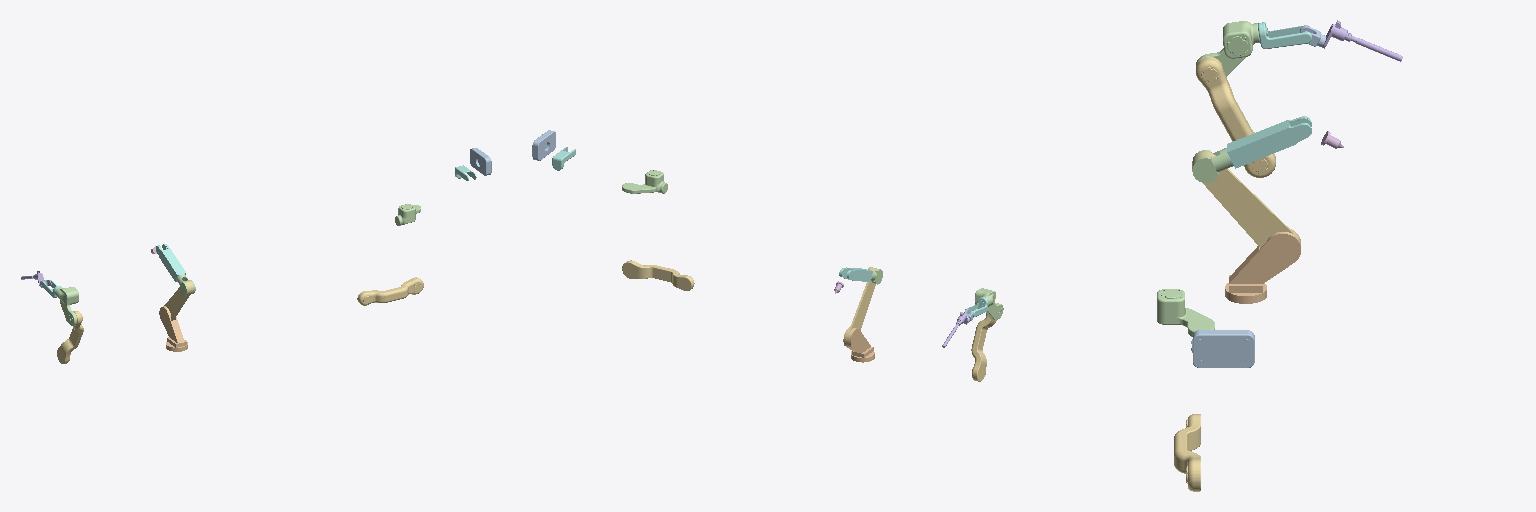
--- Facts derived from the render (not from the file) ---
Views: 3 orthographic renders of the robot side by side, from view 1: azimuth 30°, elevation 25°; view 2: azimuth 150°, elevation 25°; view 3: azimuth 270°, elevation 25°.
Model multirobot with 25 links and 24 joints (16 revolute, 8 fixed), rooted at world, posed all joints at 0.
Visible links, largest first — view 1: sero_3_link_2, sero_2_link_1, sero_1_link_2, sero_1_link_3; view 2: sero_3_link_2, sero_1_link_2, sero_3_link_3, sero_2_link_1, sero_2_link_2, sero_3_endeffector_base; view 3: sero_2_link_1, sero_2_link_2, sero_1_link_2, sero_3_endeffector_base, sero_2_link_4, sero_3_link_2, sero_1_link_3, sero_3_link_3, sero_1_link_4, sero_2_link_3, sero_1_endeffector.
Boxes of the visible links, <box> form: sero_3_link_2: <box>357,277,423,305</box>; sero_2_link_1: <box>159,306,187,351</box>; sero_1_link_2: <box>57,311,83,363</box>; sero_1_link_3: <box>55,287,78,325</box>; sero_3_link_2: <box>622,260,694,290</box>; sero_1_link_2: <box>971,303,996,381</box>; sero_3_link_3: <box>622,170,667,193</box>; sero_2_link_1: <box>843,327,874,362</box>; sero_2_link_2: <box>845,268,876,347</box>; sero_3_endeffector_base: <box>532,130,555,160</box>; sero_2_link_1: <box>1225,229,1300,303</box>; sero_2_link_2: <box>1192,152,1300,247</box>; sero_1_link_2: <box>1196,57,1275,177</box>; sero_3_endeffector_base: <box>1193,330,1254,367</box>; sero_2_link_4: <box>1226,116,1311,168</box>; sero_3_link_2: <box>1174,414,1200,491</box>; sero_1_link_3: <box>1196,21,1259,76</box>; sero_3_link_3: <box>1157,289,1214,336</box>; sero_1_link_4: <box>1258,22,1311,48</box>; sero_2_link_3: <box>1192,148,1232,182</box>; sero_1_endeffector: <box>1322,20,1402,61</box>.
Size in the robot's own frame: 3.73 by 0.989 by 1.07 metres.
14 mesh visuals loaded from 21 distinct referenced files (11 binary STL); not drawn: 10 (reference not matched to a file when rendering).

URDF robot description (multirobot):
<robot name="multirobot">
    <link name="world" />
    <!-- Robot description for the SERO-1 robot -->
    <link name="sero_1_base">
        <visual>
            <origin xyz="1.8041124150158793782e-16 0.05566523198650896731 0" rpy="0 -0 0" />
            <geometry>
                <mesh filename="package://multirobot/meshes_sero_1/base.stl" />
            </geometry>
            <material name="base_material">
                <color rgba="0.89019607843137249503 0.69803921568627447236 0.63921568627450975342 1.0" />
            </material>
        </visual>
        <collision>
            <origin xyz="1.8041124150158793782e-16 0.05566523198650896731 0" rpy="0 -0 0" />
            <geometry>
                <mesh filename="package://multirobot/meshes_sero_1/base.stl" />
            </geometry>
        </collision>
        <inertial>
            <origin xyz="1.1000114868219835157e-10 0.02821395950736303726 0.048033342389235664238" rpy="0 0 0" />
            <mass value="35.08705239524790187" />
            <inertia ixx="0.23851697130036866867" ixy="2.720782460153843585e-10" ixz="-1.0025050005633659025e-10" iyy="0.15387922346861418466" iyz="0.0068756425646022177947" izz="0.32171277328667874373" />
        </inertial>
    </link>
    <link name="sero_1_link_1">
        <visual>
            <origin xyz="-3.4165628273044953481e-23 4.4252861730203675289e-18 0" rpy="3.141592653589793116 8.8261758232621279394e-33 1.694065894508600302e-21" />
            <geometry>
                <mesh filename="package://multirobot/meshes_sero_1/link_1.stl" />
            </geometry>
            <material name="link_1_material">
                <color rgba="0.92156862745098033773 0.80000000000000004441 0.65490196078431373028 1.0" />
            </material>
        </visual>
        <collision>
            <origin xyz="-3.4165628273044953481e-23 4.4252861730203675289e-18 0" rpy="3.141592653589793116 8.8261758232621279394e-33 1.694065894508600302e-21" />
            <geometry>
                <mesh filename="package://multirobot/meshes_sero_1/link_1.stl" />
            </geometry>
        </collision>
        <inertial>
            <origin xyz="-0.015239689133278312705 -0.021586960622581662095 -0.052922200956408961547" rpy="0 0 0" />
            <mass value="18.368766956758115327" />
            <inertia ixx="0.091881923345227628497" ixy="-0.003928507823349794946" ixz="-0.0058549145264777261236" iyy="0.077315975512156784322" iyz="-0.018619533982869217181" izz="0.081329742201552590597" />
        </inertial>
    </link>
    <link name="sero_1_link_2">
        <visual>
            <origin xyz="-1.3877787807814456755e-17 2.7755575615628913511e-17 1.0587911840678754238e-22" rpy="3.141592653589793116 8.4703294725430033907e-22 -5.5511151231257827021e-17" />
            <geometry>
                <mesh filename="package://multirobot/meshes_sero_1/link_2.stl" />
            </geometry>
            <material name="link_2_material">
                <color rgba="0.94117647058823528106 0.87450980392156862919 0.67843137254901964006 1.0" />
            </material>
        </visual>
        <collision>
            <origin xyz="-1.3877787807814456755e-17 2.7755575615628913511e-17 1.0587911840678754238e-22" rpy="3.141592653589793116 8.4703294725430033907e-22 -5.5511151231257827021e-17" />
            <geometry>
                <mesh filename="package://multirobot/meshes_sero_1/link_2.stl" />
            </geometry>
        </collision>
        <inertial>
            <origin xyz="-9.7069511742337241048e-09 0.21218755221227947327 -0.047778672194228995196" rpy="0 0 0" />
            <mass value="23.673948033547031145" />
            <inertia ixx="0.6558161243846677424" ixy="-4.2793701182063200488e-08" ixz="1.457960283351658051e-08" iyy="0.037401631785456156132" iyz="0.0087992679245661176157" izz="0.65336519359711076049" />
        </inertial>
    </link>
    <link name="sero_1_link_3">
        <visual>
            <origin xyz="-1.3877787807814456755e-17 0 -0.02999999999999999542" rpy="0 1.6940658945086006781e-21 0" />
            <geometry>
                <mesh filename="package://multirobot/meshes_sero_1/link_3.stl" />
            </geometry>
            <material name="link_3_material">
                <color rgba="0.79607843137254896693 0.90588235294117647189 0.74509803921568629193 1.0" />
            </material>
        </visual>
        <collision>
            <origin xyz="-1.3877787807814456755e-17 0 -0.02999999999999999542" rpy="0 1.6940658945086006781e-21 0" />
            <geometry>
                <mesh filename="package://multirobot/meshes_sero_1/link_3.stl" />
            </geometry>
        </collision>
        <inertial>
            <origin xyz="0.11674575857875565954 0.092289914347079254897 0.0096232090141137420491" rpy="0 0 0" />
            <mass value="17.046409404154786671" />
            <inertia ixx="0.074800627899214822136" ixy="-0.036857779963696414571" ixz="-0.0059546580572337063156" iyy="0.07889465668196611603" iyz="-0.011906977912637863731" izz="0.11406256275854873006" />
        </inertial>
    </link>
    <link name="sero_1_link_4">
        <visual>
            <origin xyz="0 0 2.7755575615628913511e-17" rpy="-3.141592653589793116 -0 2.1175823681357508477e-22" />
            <geometry>
                <mesh filename="package://multirobot/meshes_sero_1/link_4.stl" />
            </geometry>
            <material name="link_4_material">
                <color rgba="0.73725490196078435901 0.9372549019607843146 0.91764705882352937127 1.0" />
            </material>
        </visual>
        <collision>
            <origin xyz="0 0 2.7755575615628913511e-17" rpy="-3.141592653589793116 -0 2.1175823681357508477e-22" />
            <geometry>
                <mesh filename="package://multirobot/meshes_sero_1/link_4.stl" />
            </geometry>
        </collision>
        <inertial>
            <origin xyz="3.2977564252776502989e-09 -0.02702676809649579362 -0.062304227824277469416" rpy="0 0 0" />
            <mass value="3.4104383191089318039" />
            <inertia ixx="0.013598205960530259859" ixy="3.5112585730628976798e-10" ixz="-2.2034950615846304763e-10" iyy="0.013866957658279771906" iyz="-0.0019762165524031542925" izz="0.0046399785925361671651" />
        </inertial>
    </link>
    <link name="sero_1_link_5">
        <visual>
            <origin xyz="0 0 -0.058999999999999996891" rpy="0 -0 0" />
            <geometry>
                <mesh filename="package://multirobot/meshes_sero_1/link_5.stl" />
            </geometry>
            <material name="link_5_material">
                <color rgba="0.76078431372549015776 0.83921568627450982003 0.92549019607843141522 1.0" />
            </material>
        </visual>
        <collision>
            <origin xyz="0 0 -0.058999999999999996891" rpy="0 -0 0" />
            <geometry>
                <mesh filename="package://multirobot/meshes_sero_1/link_5.stl" />
            </geometry>
        </collision>
        <inertial>
            <origin xyz="-4.0468429552451979308e-09 0.039174510825137690007 -0.029499999335107222193" rpy="0 0 0" />
            <mass value="1.3085442124892889826" />
            <inertia ixx="0.0013064926249374241018" ixy="9.912058132376598351e-11" ixz="-1.9731401884078835894e-09" iyy="0.0006855126077186873227" iyz="-5.917739079764238076e-12" izz="0.0010923022573062720654" />
        </inertial>
    </link>
    <link name="sero_1_endeffector">
        <visual>
            <origin xyz="0 -0.060000000000000053291 -0.010000000000000008882" rpy="-3.141592653589793116 -0 -4.2351647362715007549e-22" />
            <geometry>
                <mesh filename="package://multirobot/meshes_sero_1/endeffector.stl" />
            </geometry>
            <material name="endeffector_material">
                <color rgba="0.80000000000000004441 0.74901960784313725839 0.91372549019607840481 1.0" />
            </material>
        </visual>
        <collision>
            <origin xyz="0 -0.060000000000000053291 -0.010000000000000008882" rpy="-3.141592653589793116 -0 -4.2351647362715007549e-22" />
            <geometry>
                <mesh filename="package://multirobot/meshes_sero_1/endeffector.stl" />
            </geometry>
        </collision>
        <inertial>
            <origin xyz="-2.007927628673531952e-08 -0.055461111974627962107 -0.097485938408557723522" rpy="0 0 0" />
            <mass value="2.2359613690447335266" />
            <inertia ixx="0.020791268849754438591" ixy="-8.8059871773682104797e-10" ixz="1.914123719498550581e-10" iyy="0.020196057963709122818" iyz="-0.00095402857951714054117" izz="0.0010816277361651634864" />
        </inertial>
    </link>
    <joint name="sero_1_j6" type="revolute">
        <origin xyz="1.1102230246251565404e-16 0.079999999999999960032 -0.029499999999999998446" rpy="1.5707963267948892305 -1.5707963265184670121 0" />
        <parent link="sero_1_link_5" />
        <child link="sero_1_endeffector" />
        <axis xyz="0 0 1" />
        <limit effort="1" velocity="20" lower="-3.141592653589793116" upper="3.141592653589793116" />
        <joint_properties friction="0.0" />
    </joint>
    <joint name="sero_1_j5" type="revolute">
        <origin xyz="-0.030000000000000016237 -0.035000000000000142109 -0.18499999999999999778" rpy="-1.570796326794896558 0.57407536946603265893 1.57079632679489678" />
        <parent link="sero_1_link_4" />
        <child link="sero_1_link_5" />
        <axis xyz="0 0 1" />
        <limit effort="1" velocity="20" lower="-2.0653116879748694146" upper="2.0650581841370048153" />
        <joint_properties friction="0.0" />
    </joint>
    <joint name="sero_1_j4" type="revolute">
        <origin xyz="0.22000000000000002887 0.12083333333333334814 -0.016980779096484183155" rpy="-1.5707963268408067226 -1.5707952499523358814 1.5707963267450772982" />
        <parent link="sero_1_link_3" />
        <child link="sero_1_link_4" />
        <axis xyz="0 0 1" />
        <limit effort="1" velocity="20" lower="-3.141592653589793116" upper="3.141592653589793116" />
        <joint_properties friction="0.0" />
    </joint>
    <joint name="sero_1_j3" type="revolute">
        <origin xyz="0 0.44999999999999995559 1.2533970036995509267e-18" rpy="3.141592653589793116 3.529925104387571233e-17 -2.8217730704100758565" />
        <parent link="sero_1_link_2" />
        <child link="sero_1_link_3" />
        <axis xyz="0 0 1" />
        <limit effort="1" velocity="20" lower="-3.2351423014966895764" upper="1.7570410727549981011" />
        <joint_properties friction="0.0" />
    </joint>
    <joint name="sero_1_j2" type="revolute">
        <origin xyz="0 -0.060000000000000004718 -0.14500000000000001776" rpy="-1.570796326794896558 -0.46704913247174045798 1.570796326794896336" />
        <parent link="sero_1_link_1" />
        <child link="sero_1_link_2" />
        <axis xyz="0 0 1" />
        <limit effort="1" velocity="20" lower="-1.8110811019912356201" upper="1.8362307380071132279" />
        <joint_properties friction="0.0" />
    </joint>
    <joint name="sero_1_j1" type="revolute">
        <origin xyz="1.8041113859237242606e-16 0.055665231986508988127 0.10499999999999999611" rpy="-3.1415926535897926719 6.8688042396975808885e-17 8.1606641769779487982e-06" />
        <parent link="sero_1_base" />
        <child link="sero_1_link_1" />
        <axis xyz="0 0 1" />
        <limit effort="1" velocity="20" lower="-3.141592653589793116" upper="3.141592653589793116" />
        <joint_properties friction="0.0" />
    </joint>
    <joint name="fixed_link_to_world" type="fixed">
        <parent link="world" />
        <child link="sero_1_base" />
    </joint>
    <!-- Robot description for the SERO-2 robot  -->
    <link name="sero_2_base">
        <visual>
            <origin xyz="-1.5815932371176240324e-17 0.0003676064896688987756 1.2462514743223658495e-17" rpy="-9.3394600618250885692e-16 1.4558378780933280025e-22 -1.0606777952125936304e-24" />
            <geometry>
                <mesh filename="package://multirobot/meshes_sero_2/base.stl" />
            </geometry>
            <material name="base_material">
                <color rgba="0.89019607843137249503 0.69803921568627447236 0.63921568627450975342 1.0" />
            </material>
        </visual>
        <collision>
            <origin xyz="-1.5815932371176240324e-17 0.0003676064896688987756 1.2462514743223658495e-17" rpy="-9.3394600618250885692e-16 1.4558378780933280025e-22 -1.0606777952125936304e-24" />
            <geometry>
                <mesh filename="package://multirobot/meshes_sero_2/base.stl" />
            </geometry>
        </collision>
        <inertial>
            <origin xyz="-1.1008906693734771152e-17 0.01712945505275543373 0.053277045661753889838" rpy="0 0 0" />
            <mass value="49.341703062128146939" />
            <inertia ixx="0.48030579732272715709" ixy="2.2775645730969955764e-16" ixz="-1.5614007003723059311e-19" iyy="0.32715051410827444833" iyz="0.026418917266756287293" izz="0.66330772835406781596" />
        </inertial>
    </link>
    <link name="sero_2_link_1">
        <visual>
            <origin xyz="0 -6.9388937082278788177e-18 0" rpy="3.141592653589793116 -6.6648828361145180298e-38 0" />
            <geometry>
                <mesh filename="package://multirobot/meshes_sero_2/link_01.stl" />
            </geometry>
            <material name="link_01_material">
                <color rgba="0.92156862745098033773 0.80000000000000004441 0.65490196078431373028 1.0" />
            </material>
        </visual>
        <collision>
            <origin xyz="0 -6.9388937082278788177e-18 0" rpy="3.141592653589793116 -6.6648828361145180298e-38 0" />
            <geometry>
                <mesh filename="package://multirobot/meshes_sero_2/link_01.stl" />
            </geometry>
        </collision>
        <inertial>
            <origin xyz="-1.3930947794738095121e-17 0.039678416839350458267 -0.088135224166391870626" rpy="0 0 0" />
            <mass value="19.091905974861962392" />
            <inertia ixx="0.17356539548813906815" ixy="1.3064932428437966355e-41" ixz="1.1588565508314935939e-38" iyy="0.10969326521272225461" iyz="0.06154665368139393411" izz="0.097209143603018868807" />
        </inertial>
    </link>
    <link name="sero_2_link_2">
        <visual>
            <origin xyz="0.3869932029135638718 5.5511151231257827021e-17 -0.020000000000000000416" rpy="-1.4791141972893971351e-31 -0 0" />
            <geometry>
                <mesh filename="package://multirobot/meshes_sero_2/link_02.stl" />
            </geometry>
            <material name="link_02_material">
                <color rgba="0.94117647058823528106 0.87450980392156862919 0.67843137254901964006 1.0" />
            </material>
        </visual>
        <collision>
            <origin xyz="0.3869932029135638718 5.5511151231257827021e-17 -0.020000000000000000416" rpy="-1.4791141972893971351e-31 -0 0" />
            <geometry>
                <mesh filename="package://multirobot/meshes_sero_2/link_02.stl" />
            </geometry>
        </collision>
        <inertial>
            <origin xyz="0.19868099262593577614 5.3251367445785958629e-06 -0.019999999999999996947" rpy="0 0 0" />
            <mass value="13.731956551120582333" />
            <inertia ixx="0.018356645947704766653" ixy="-5.0560961534334941903e-06" ixz="5.2055933418348150452e-32" iyy="0.51193263504671415731" iyz="-2.3665497291348866197e-32" izz="0.52790229780144803939" />
        </inertial>
    </link>
    <link name="sero_2_link_3">
        <visual>
            <origin xyz="0.082936154343289242297 0.040000000000000035527 0.051595448702573779021" rpy="1.570796326794896558 -9.8607613152626475676e-32 -5.5511151231257827021e-17" />
            <geometry>
                <mesh filename="package://multirobot/meshes_sero_2/link_03.stl" />
            </geometry>
            <material name="link_03_material">
                <color rgba="0.79607843137254896693 0.90588235294117647189 0.74509803921568629193 1.0" />
            </material>
        </visual>
        <collision>
            <origin xyz="0.082936154343289242297 0.040000000000000035527 0.051595448702573779021" rpy="1.570796326794896558 -9.8607613152626475676e-32 -5.5511151231257827021e-17" />
            <geometry>
                <mesh filename="package://multirobot/meshes_sero_2/link_03.stl" />
            </geometry>
        </collision>
        <inertial>
            <origin xyz="0.027737840329478243018 2.7755575615628913511e-17 0.020000000000000087153" rpy="0 0 0" />
            <mass value="4.3889152375046247556" />
            <inertia ixx="0.0061998414225303945593" ixy="1.1033789677823471709e-18" ixz="-6.0558728947049249777e-34" iyy="0.01303827492757124451" iyz="-6.4283658511776695879e-34" izz="0.012341226150433244266" />
        </inertial>
    </link>
    <link name="sero_2_link_4">
        <visual>
            <origin xyz="-5.7182229731586198856e-18 -1.1102230246251565404e-16 -0.0050000000000000044409" rpy="1.570796326794896558 7.3955709864469856757e-32 2.7117093616972280811e-31" />
            <geometry>
                <mesh filename="package://multirobot/meshes_sero_2/link_04.stl" />
            </geometry>
            <material name="link_04_material">
                <color rgba="0.73725490196078435901 0.9372549019607843146 0.91764705882352937127 1.0" />
            </material>
        </visual>
        <collision>
            <origin xyz="-5.7182229731586198856e-18 -1.1102230246251565404e-16 -0.0050000000000000044409" rpy="1.570796326794896558 7.3955709864469856757e-32 2.7117093616972280811e-31" />
            <geometry>
                <mesh filename="package://multirobot/meshes_sero_2/link_04.stl" />
            </geometry>
        </collision>
        <inertial>
            <origin xyz="6.706124958959406219e-08 2.5645657196301469083e-07 -0.15365038198320141172" rpy="0 0 0" />
            <mass value="15.107736051004897249" />
            <inertia ixx="0.13214990381477231818" ixy="4.4796122324437923437e-08" ixz="-3.024594803775144215e-07" iyy="0.13305214321537708888" iyz="1.9559808232033071674e-07" izz="0.016366262810169347752" />
        </inertial>
    </link>
    <link name="sero_2_link_5">
        <visual>
            <origin xyz="-0.069999999999999895639 -1.1102230246251565404e-16 0.010000000000000005412" rpy="1.570796326794896558 1.570796326794896558 0" />
            <geometry>
                <mesh filename="package://multirobot/meshes_sero_2/link_05.stl" />
            </geometry>
            <material name="link_05_material">
                <color rgba="0.76078431372549015776 0.83921568627450982003 0.92549019607843141522 1.0" />
            </material>
        </visual>
        <collision>
            <origin xyz="-0.069999999999999895639 -1.1102230246251565404e-16 0.010000000000000005412" rpy="1.570796326794896558 1.570796326794896558 0" />
            <geometry>
                <mesh filename="package://multirobot/meshes_sero_2/link_05.stl" />
            </geometry>
        </collision>
        <inertial>
            <origin xyz="-0.035772312271263068117 -1.082749957061830637e-16 -0.019999999999999996947" rpy="0 0 0" />
            <mass value="2.3102574452715738396" />
            <inertia ixx="0.0010511771695403894673" ixy="2.3186664240757424612e-19" ixz="-1.7385449251018909641e-34" iyy="0.003125760927845208214" iyz="7.0337489501620479173e-34" izz="0.0035261880285266476026" />
        </inertial>
    </link>
    <link name="sero_2_endeffector">
        <visual>
            <origin xyz="5.9164567891575885406e-31 -1.1102230246251565404e-16 0" rpy="3.141592653589793116 -0 9.8607613152626475676e-32" />
            <geometry>
                <mesh filename="package://multirobot/meshes_sero_2/ee.stl" />
            </geometry>
            <material name="ee_material">
                <color rgba="0.85098039215686271941 0.7568627450980391913 0.86666666666666669627 1.0" />
            </material>
        </visual>
        <collision>
            <origin xyz="5.9164567891575885406e-31 -1.1102230246251565404e-16 0" rpy="3.141592653589793116 -0 9.8607613152626475676e-32" />
            <geometry>
                <mesh filename="package://multirobot/meshes_sero_2/ee.stl" />
            </geometry>
        </collision>
        <inertial>
            <origin xyz="4.5844704651727837579e-19 -1.1074837707529742556e-16 -0.029621700270214084555" rpy="0 0 0" />
            <mass value="0.79097658475267251799" />
            <inertia ixx="0.00046375431396383494332" ixy="2.2864852994603759838e-34" ixz="8.1535948214775546414e-35" iyy="0.00046375431396383494332" iyz="-1.1475164562417600293e-20" izz="0.00020671818738927610188" />
        </inertial>
    </link>
    <joint name="sero_2_j6" type="fixed">
        <origin xyz="-0.095000000000000028866 0 -0.019999999999999965722" rpy="3.141592653589793116 -1.5707963267948950037 0" />
        <parent link="sero_2_link_5" />
        <child link="sero_2_endeffector" />
        <axis xyz="0 0 1" />
        <limit effort="1" velocity="20" />
        <joint_properties friction="0.0" />
    </joint>
    <joint name="sero_2_j5" type="revolute">
        <origin xyz="0.019999999999999986539 -1.1102230246251565404e-16 -0.32499999999999845679" rpy="1.5707963267948970021 -0.6422904971427879639 1.5707963267948992225" />
        <parent link="sero_2_link_4" />
        <child link="sero_2_link_5" />
        <axis xyz="0 0 1" />
        <limit effort="1" velocity="20" lower="-0.1570796326794896558" upper="3.2812189937493396741" />
        <joint_properties friction="0.0" />
    </joint>
    <joint name="sero_2_j4" type="revolute">
        <origin xyz="0.1052999999999999492 0 0.020000000000000059397" rpy="5.5511151231257814695e-17 -1.5707963267948952257 0" />
        <parent link="sero_2_link_3" />
        <child link="sero_2_link_4" />
        <axis xyz="0 0 1" />
        <limit effort="1" velocity="20" lower="-3.141592653589793116" upper="3.141592653589793116" />
        <joint_properties friction="0.0" />
    </joint>
    <joint name="sero_2_j3" type="revolute">
        <origin xyz="0.47249999999999992006 5.5511151231257827021e-17 -0.039999999999999993894" rpy="-3.9099808047474802371e-16 6.5349778921725544513e-18 -1.8702914936790970835" />
        <parent link="sero_2_link_2" />
        <child link="sero_2_link_3" />
        <axis xyz="0 0 1" />
        <limit effort="1" velocity="20" lower="-0.36651914291880921537" upper="3.4906585039886590671" />
        <joint_properties friction="0.0" />
    </joint>
    <joint name="sero_2_j2" type="revolute">
        <origin xyz="-0.020000000000000003886 0.14873863542433760077 -0.20873863542433754303" rpy="1.5707963267948958919 0.855974613270912843 -1.57079632679489678" />
        <parent link="sero_2_link_1" />
        <child link="sero_2_link_2" />
        <axis xyz="0 0 1" />
        <limit effort="1" velocity="20" lower="-1.8174" upper="0" />
        <joint_properties friction="0.0" />
    </joint>
    <joint name="sero_2_j1" type="revolute">
        <origin xyz="-1.3877787807814459837e-17 0.060367606489668872161 0.12000000000000006495" rpy="-3.1415926535897793492 -8.8628477392845443571e-22 3.141592653589793116" />
        <parent link="sero_2_base" />
        <child link="sero_2_link_1" />
        <axis xyz="0 0 1" />
        <limit effort="1" velocity="20" lower="-3.141592653589793116" upper="3.141592653589793116" />
        <joint_properties friction="0.0" />
    </joint>
    <joint name="sero_1_to_sero_2" type="fixed">
        <parent link="sero_1_base" />
        <child link="sero_2_base" />
        <origin xyz="1 0 0" rpy="0 0 0" />
    </joint>
    <!-- Robot description for the SERO-3 robot -->
    <link name="sero_3_base">
        <visual>
            <origin xyz="-4.1633363423443370266e-17 1.6949752565162061855e-18 -5.5154662533553587949e-34" rpy="-3.254009893154236877e-16 8.6281661508548166217e-32 1.2347465433156991646e-16" />
            <geometry>
                <mesh filename="package://multirobot/meshes_sero_3/base.stl" />
            </geometry>
            <material name="base_material">
                <color rgba="0.89019607843137249503 0.69803921568627447236 0.63921568627450975342 1.0" />
            </material>
        </visual>
        <collision>
            <origin xyz="-4.1633363423443370266e-17 1.6949752565162061855e-18 -5.5154662533553587949e-34" rpy="-3.254009893154236877e-16 8.6281661508548166217e-32 1.2347465433156991646e-16" />
            <geometry>
                <mesh filename="package://multirobot/meshes_sero_3/base.stl" />
            </geometry>
        </collision>
        <inertial>
            <origin xyz="-1.4191131412431651619e-17 3.093208156293898791e-17 0.039865010471469702891" rpy="0 0 0" />
            <mass value="29.561020908170693389" />
            <inertia ixx="0.56414288287999059257" ixy="6.1629758220391547298e-32" ixz="-2.6008615487439589667e-32" iyy="0.5641428828799902595" iyz="1.5651332502670880486e-16" izz="1.0451288975690682381" />
        </inertial>
    </link>
    <link name="sero_3_link_1">
        <visual>
            <origin xyz="-6.1629758220391547298e-33 4.8470540592812887996e-18 0" rpy="3.141592653589793116 -2.0861283505423087262e-43 0" />
            <geometry>
                <mesh filename="package://multirobot/meshes_sero_3/link_1.stl" />
            </geometry>
            <material name="link_1_material">
                <color rgba="0.92156862745098033773 0.80000000000000004441 0.65490196078431373028 1.0" />
            </material>
        </visual>
        <collision>
            <origin xyz="-6.1629758220391547298e-33 4.8470540592812887996e-18 0" rpy="3.141592653589793116 -2.0861283505423087262e-43 0" />
            <geometry>
                <mesh filename="package://multirobot/meshes_sero_3/link_1.stl" />
            </geometry>
        </collision>
        <inertial>
            <origin xyz="2.5812154935817390889e-07 0.020078728528027917077 -0.084265679701914092403" rpy="0 0 0" />
            <mass value="32.098264787234505491" />
            <inertia ixx="0.15183599668872910238" ixy="-1.1318804273050995291e-06" ixz="4.1015787527610980043e-07" iyy="0.12206161215963268196" iyz="0.00514067802598717951" izz="0.12973629061825234232" />
        </inertial>
    </link>
    <link name="sero_3_link_2">
        <visual>
            <origin xyz="0 4.5924254968025766839e-18 4.1183628318625710158e-18" rpy="-3.141592653589793116 9.8607613152626475676e-32 -1.3749793942868710628e-32" />
            <geometry>
                <mesh filename="package://multirobot/meshes_sero_3/link_2.stl" />
            </geometry>
            <material name="link_2_material">
                <color rgba="0.94117647058823528106 0.87450980392156862919 0.67843137254901964006 1.0" />
            </material>
        </visual>
        <collision>
            <origin xyz="0 4.5924254968025766839e-18 4.1183628318625710158e-18" rpy="-3.141592653589793116 9.8607613152626475676e-32 -1.3749793942868710628e-32" />
            <geometry>
                <mesh filename="package://multirobot/meshes_sero_3/link_2.stl" />
            </geometry>
        </collision>
        <inertial>
            <origin xyz="-0.31499983020000299483 -5.9338950341248018232e-08 -0.1048694271057695887" rpy="0 0 0" />
            <mass value="95.412481284338156229" />
            <inertia ixx="0.30014578780677336756" ixy="2.7683924706706791416e-07" ixz="2.5259250984795803334e-06" iyy="5.0701114070706099213" iyz="-3.3364583905554261746e-07" izz="4.9823951617652841861" />
        </inertial>
    </link>
    <link name="sero_3_link_3">
        <visual>
            <origin xyz="0 0 -3.5177085194790902871e-18" rpy="1.570796326794896558 -1.9721522630525295135e-31 1.3755759769189022776e-33" />
            <geometry>
                <mesh filename="package://multirobot/meshes_sero_3/link_3.stl" />
            </geometry>
            <material name="link_3_material">
                <color rgba="0.79607843137254896693 0.90588235294117647189 0.74509803921568629193 1.0" />
            </material>
        </visual>
        <collision>
            <origin xyz="0 0 -3.5177085194790902871e-18" rpy="1.570796326794896558 -1.9721522630525295135e-31 1.3755759769189022776e-33" />
            <geometry>
                <mesh filename="package://multirobot/meshes_sero_3/link_3.stl" />
            </geometry>
        </collision>
        <inertial>
            <origin xyz="-0.12787550742648204349 -0.086695678159673439378 -0.13092497492624188826" rpy="0 0 0" />
            <mass value="84.06211694702932391" />
            <inertia ixx="0.72701390054885139946" ixy="-0.56396100688611627838" ixz="-0.3398755684914888664" iyy="2.2596801602232305939" iyz="-0.076724939144711401529" izz="2.471848827686650818" />
        </inertial>
    </link>
    <link name="sero_3_link_4">
        <visual>
            <origin xyz="0 0 3.0295804379226702294e-18" rpy="3.141592653589793116 -0 -3.8393994794198495367e-32" />
            <geometry>
                <mesh filename="package://multirobot/meshes_sero_3/link_4.stl" />
            </geometry>
            <material name="link_4_material">
                <color rgba="0.73725490196078435901 0.9372549019607843146 0.91764705882352937127 1.0" />
            </material>
        </visual>
        <collision>
            <origin xyz="0 0 3.0295804379226702294e-18" rpy="3.141592653589793116 -0 -3.8393994794198495367e-32" />
            <geometry>
                <mesh filename="package://multirobot/meshes_sero_3/link_4.stl" />
            </geometry>
        </collision>
        <inertial>
            <origin xyz="-0.0057366460591120483486 -0.056799838397228498421 -0.078907548477852723634" rpy="0 0 0" />
            <mass value="35.563010627334307401" />
            <inertia ixx="0.14795985643388004371" ixy="-0.006773630552061549355" ixz="-0.00022289820645230695706" iyy="0.19264265280028286531" iyz="-0.002206662293176273916" izz="0.2475639065566472008" />
        </inertial>
    </link>
    <link name="sero_3_endeffector_base">
        <visual>
            <origin xyz="6.6613381471808452436e-18 0 -0.080000000000000071054" rpy="3.141592653589793116 -0 0" />
            <geometry>
                <mesh filename="package://multirobot/meshes_sero_3/ee_base.stl" />
            </geometry>
            <material name="ee_base_material">
                <color rgba="0.76078431372549015776 0.83921568627450982003 0.92549019607843141522 1.0" />
            </material>
        </visual>
        <collision>
            <origin xyz="6.6613381471808452436e-18 0 -0.080000000000000071054" rpy="3.141592653589793116 -0 0" />
            <geometry>
                <mesh filename="package://multirobot/meshes_sero_3/ee_base.stl" />
            </geometry>
        </collision>
        <inertial>
            <origin xyz="9.8538615821355001922e-18 1.3275424895558869447e-17 -0.0057551348153010856157" rpy="0 0 0" />
            <mass value="13.798178184326982176" />
            <inertia ixx="0.028682988283033793858" ixy="0" ixz="0" iyy="0.074982477117703713598" iyz="6.2565298301991734419e-33" izz="0.097983436923002042995" />
        </inertial>
    </link>
    <link name="sero_3_v_tube">
        <visual>
            <origin xyz="0 -8.326672683761289173e-18 -0.044999999999999928946" rpy="3.141592653589793116 1.0342508817956038219e-31 0" />
            <geometry>
                <mesh filename="package://multirobot/meshes_sero_3/v_tube.stl" />
            </geometry>
            <material name="v_tube_material">
                <color rgba="0.80000000000000004441 0.74901960784313725839 0.91372549019607840481 1.0" />
            </material>
        </visual>
        <collision>
            <origin xyz="0 -8.326672683761289173e-18 -0.044999999999999928946" rpy="3.141592653589793116 1.0342508817956038219e-31 0" />
            <geometry>
                <mesh filename="package://multirobot/meshes_sero_3/v_tube.stl" />
            </geometry>
        </collision>
        <inertial>
            <origin xyz="1.7426086658785223658e-19 -8.326672683761289173e-18 -0.023353658507928257843" rpy="0 0 0" />
            <mass value="0.16852026592631189073" />
            <inertia ixx="3.3195910788590593564e-05" ixy="-6.5467390585808818723e-36" ixz="-3.6792700159404011462e-36" iyy="3.3195910788590593564e-05" iyz="0" izz="1.3625480037700539164e-05" />
        </inertial>
    </link>
    <joint name="sero_3_vacuum_1" type="fixed">
        <origin xyz="0.094999999999999987232 0.044999999999999706901 -0.035000000000000031086" rpy="-2.5673907444551896414e-16 -4.5080215706672108797e-30 1.570796326794896558" />
        <parent link="sero_3_endeffector_base" />
        <child link="sero_3_v_tube" />
        <axis xyz="0 0 1" />
        <limit effort="1" velocity="20" />
        <joint_properties friction="0.0" />
    </joint>
    <link name="sero_3_v_tube_2">
        <visual>
            <origin xyz="0 -4.9960036098762270031e-18 -0.044999999999999928946" rpy="3.141592653589793116 1.0342508817956038219e-31 0" />
            <geometry>
                <mesh filename="package://multirobot/meshes_sero_3/v_tube.stl" />
            </geometry>
            <material name="v_tube_material">
                <color rgba="0.80000000000000004441 0.74901960784313725839 0.91372549019607840481 1.0" />
            </material>
        </visual>
        <collision>
            <origin xyz="0 -4.9960036098762270031e-18 -0.044999999999999928946" rpy="3.141592653589793116 1.0342508817956038219e-31 0" />
            <geometry>
                <mesh filename="package://multirobot/meshes_sero_3/v_tube.stl" />
            </geometry>
        </collision>
        <inertial>
            <origin xyz="1.7426086658785223658e-19 -4.9960036098762270031e-18 -0.023353658507928257843" rpy="0 0 0" />
            <mass value="0.16852026592631189073" />
            <inertia ixx="3.3195910788590593564e-05" ixy="-6.5467390585808818723e-36" ixz="-3.6792700159404011462e-36" iyy="3.3195910788590593564e-05" iyz="0" izz="1.3625480037700539164e-05" />
        </inertial>
    </link>
    <joint name="sero_3_vacuum_2" type="fixed">
        <origin xyz="0.095000000000000014988 -0.04500000000000015099 -0.035000000000000031086" rpy="-2.5673907444551896414e-16 -4.5080215706672108797e-30 1.570796326794896558" />
        <parent link="sero_3_endeffector_base" />
        <child link="sero_3_v_tube_2" />
        <axis xyz="0 0 1" />
        <limit effort="1" velocity="20" />
        <joint_properties friction="0.0" />
    </joint>
    <link name="sero_3_v_tube_3">
        <visual>
            <origin xyz="0 5.5511151240626339132e-18 -0.044999999999999928946" rpy="3.141592653589793116 1.0342508817956038219e-31 0" />
            <geometry>
                <mesh filename="package://multirobot/meshes_sero_3/v_tube.stl" />
            </geometry>
            <material name="v_tube_material">
                <color rgba="0.80000000000000004441 0.74901960784313725839 0.91372549019607840481 1.0" />
            </material>
        </visual>
        <collision>
            <origin xyz="0 5.5511151240626339132e-18 -0.044999999999999928946" rpy="3.141592653589793116 1.0342508817956038219e-31 0" />
            <geometry>
                <mesh filename="package://multirobot/meshes_sero_3/v_tube.stl" />
            </geometry>
        </collision>
        <inertial>
            <origin xyz="1.7426086658785223658e-19 5.5511151240626331428e-18 -0.023353658507928257843" rpy="0 0 0" />
            <mass value="0.16852026592631189073" />
            <inertia ixx="3.3195910788590593564e-05" ixy="-6.5467390585808818723e-36" ixz="-3.6792700159404011462e-36" iyy="3.3195910788590593564e-05" iyz="0" izz="1.3625480037700539164e-05" />
        </inertial>
    </link>
    <joint name="sero_3_vacuum_3" type="fixed">
        <origin xyz="-0.094999999999999987232 0.044999999999999706901 -0.035000000000000031086" rpy="-2.5673907444551896414e-16 -4.5080215706672108797e-30 1.570796326794896558" />
        <parent link="sero_3_endeffector_base" />
        <child link="sero_3_v_tube_3" />
        <axis xyz="0 0 1" />
        <limit effort="1" velocity="20" />
        <joint_properties friction="0.0" />
    </joint>
    <link name="sero_3_v_tube_4">
        <visual>
            <origin xyz="0 8.8817841979453295003e-18 -0.044999999999999928946" rpy="3.141592653589793116 1.0342508817956038219e-31 0" />
            <geometry>
                <mesh filename="package://multirobot/meshes_sero_3/v_tube.stl" />
            </geometry>
            <material name="v_tube_material">
                <color rgba="0.80000000000000004441 0.74901960784313725839 0.91372549019607840481 1.0" />
            </material>
        </visual>
        <collision>
            <origin xyz="0 8.8817841979453295003e-18 -0.044999999999999928946" rpy="3.141592653589793116 1.0342508817956038219e-31 0" />
            <geometry>
                <mesh filename="package://multirobot/meshes_sero_3/v_tube.stl" />
            </geometry>
        </collision>
        <inertial>
            <origin xyz="1.7426086658785223658e-19 8.8817841979453295003e-18 -0.023353658507928257843" rpy="0 0 0" />
            <mass value="0.16852026592631189073" />
            <inertia ixx="3.3195910788590593564e-05" ixy="-6.5467390585808818723e-36" ixz="-3.6792700159404011462e-36" iyy="3.3195910788590593564e-05" iyz="0" izz="1.3625480037700539164e-05" />
        </inertial>
    </link>
    <joint name="sero_3_vacuum_4" type="fixed">
        <origin xyz="-0.094999999999999959477 -0.045000000000000373035 -0.035000000000000031086" rpy="-2.5673907444551896414e-16 -4.5080215706672108797e-30 1.570796326794896558" />
        <parent link="sero_3_endeffector_base" />
        <child link="sero_3_v_tube_4" />
        <axis xyz="0 0 1" />
        <limit effort="1" velocity="20" />
        <joint_properties friction="0.0" />
    </joint>
    <joint name="sero_3_j5" type="revolute">
        <origin xyz="0.14499999999999985123 -0.090000000000000301981 -0.079999999999999987788" rpy="-3.141592653589793116 1.5707963267948890085 0" />
        <parent link="sero_3_link_4" />
        <child link="sero_3_endeffector_base" />
        <axis xyz="0 0 1" />
        <limit effort="1" velocity="20" lower="-3.141592653589793116" upper="3.141592653589793116" />
        <joint_properties friction="0.0" />
    </joint>
    <joint name="sero_3_j4" type="revolute">
        <origin xyz="-0.49500000000000005107 -0.14000000000000001332 -0.17000000000000009548" rpy="3.1415926535897917837 6.241086271459160841e-16 -3.1415926535897922278" />
        <parent link="sero_3_link_3" />
        <child link="sero_3_link_4" />
        <axis xyz="0 0 1" />
        <limit effort="1" velocity="20" lower="-3.141592653589793116" upper="3.141592653589793116" />
        <joint_properties friction="0.0" />
    </joint>
    <joint name="sero_3_j3" type="revolute">
        <origin xyz="-0.62999999999999989342 -6.4711246131411124663e-32 1.061085658197035173e-17" rpy="-3.141592653589793116 -1.819226480685986761e-15 1.5707963267948961139" />
        <parent link="sero_3_link_2" />
        <child link="sero_3_link_3" />
        <axis xyz="0 0 1" />
        <limit effort="1" velocity="20" lower="-3.141592653589793116" upper="3.141592653589793116" />
        <joint_properties friction="0.0" />
    </joint>
    <joint name="sero_3_j2" type="revolute">
        <origin xyz="-6.1629758220391547298e-33 0.12000000000000005107 -0.079999999999999960032" rpy="1.5707963267948956698 -1.5707963267948956698 0" />
        <parent link="sero_3_link_1" />
        <child link="sero_3_link_2" />
        <axis xyz="0 0 1" />
        <limit effort="1" velocity="20" lower="0" upper="3.141592653589793116" />
        <joint_properties friction="0.0" />
    </joint>
    <joint name="sero_3_j1" type="revolute">
        <origin xyz="-4.1633363423443370266e-17 6.2524054036301313582e-17 0.17000000000000001221" rpy="3.141592653589793116 -3.5404820457539550914e-27 -5.5511151231290971505e-17" />
        <parent link="sero_3_base" />
        <child link="sero_3_link_1" />
        <axis xyz="0 0 1" />
        <limit effort="1" velocity="20" lower="-3.141592653589793116" upper="3.141592653589793116" />
        <joint_properties friction="0.0" />
    </joint>
    <joint name="sero_2_to_sero_3" type="fixed">
        <parent link="sero_2_base" />
        <child link="sero_3_base" />
        <origin xyz="2 0 0" rpy="0 0 0" />
    </joint>
    <transmission name="trans_sero_1_j6">
        <type>transmission_interface/SimpleTransmission</type>
        <joint name="sero_1_j6">
            <hardwareInterface>hardware_interface/PositionJointInterface</hardwareInterface>
        </joint>
        <actuator name="sero_1_j6_motor">
            <hardwareInterface>hardware_interface/PositionJointInterface</hardwareInterface>
            <mechanicalReduction>1</mechanicalReduction>
        </actuator>
    </transmission>
    <transmission name="trans_sero_1_j5">
        <type>transmission_interface/SimpleTransmission</type>
        <joint name="sero_1_j5">
            <hardwareInterface>hardware_interface/PositionJointInterface</hardwareInterface>
        </joint>
        <actuator name="sero_1_j5_motor">
            <hardwareInterface>hardware_interface/PositionJointInterface</hardwareInterface>
            <mechanicalReduction>1</mechanicalReduction>
        </actuator>
    </transmission>
    <transmission name="trans_sero_1_j4">
        <type>transmission_interface/SimpleTransmission</type>
        <joint name="sero_1_j4">
            <hardwareInterface>hardware_interface/PositionJointInterface</hardwareInterface>
        </joint>
        <actuator name="sero_1_j4_motor">
            <hardwareInterface>hardware_interface/PositionJointInterface</hardwareInterface>
            <mechanicalReduction>1</mechanicalReduction>
        </actuator>
    </transmission>
    <transmission name="trans_sero_1_j3">
        <type>transmission_interface/SimpleTransmission</type>
        <joint name="sero_1_j3">
            <hardwareInterface>hardware_interface/PositionJointInterface</hardwareInterface>
        </joint>
        <actuator name="sero_1_j3_motor">
            <hardwareInterface>hardware_interface/PositionJointInterface</hardwareInterface>
            <mechanicalReduction>1</mechanicalReduction>
        </actuator>
    </transmission>
    <transmission name="trans_sero_1_j2">
        <type>transmission_interface/SimpleTransmission</type>
        <joint name="sero_1_j2">
            <hardwareInterface>hardware_interface/PositionJointInterface</hardwareInterface>
        </joint>
        <actuator name="sero_1_j2_motor">
            <hardwareInterface>hardware_interface/PositionJointInterface</hardwareInterface>
            <mechanicalReduction>1</mechanicalReduction>
        </actuator>
    </transmission>
    <transmission name="trans_sero_1_j1">
        <type>transmission_interface/SimpleTransmission</type>
        <joint name="sero_1_j1">
            <hardwareInterface>hardware_interface/PositionJointInterface</hardwareInterface>
        </joint>
        <actuator name="sero_1_j1_motor">
            <hardwareInterface>hardware_interface/PositionJointInterface</hardwareInterface>
            <mechanicalReduction>1</mechanicalReduction>
        </actuator>
    </transmission>
    <transmission name="trans_sero_2_j5">
        <type>transmission_interface/SimpleTransmission</type>
        <joint name="sero_2_j5">
            <hardwareInterface>hardware_interface/PositionJointInterface</hardwareInterface>
        </joint>
        <actuator name="sero_2_j5_motor">
            <hardwareInterface>hardware_interface/PositionJointInterface</hardwareInterface>
            <mechanicalReduction>1</mechanicalReduction>
        </actuator>
    </transmission>
    <transmission name="trans_sero_2_j4">
        <type>transmission_interface/SimpleTransmission</type>
        <joint name="sero_2_j4">
            <hardwareInterface>hardware_interface/PositionJointInterface</hardwareInterface>
        </joint>
        <actuator name="sero_2_j4_motor">
            <hardwareInterface>hardware_interface/PositionJointInterface</hardwareInterface>
            <mechanicalReduction>1</mechanicalReduction>
        </actuator>
    </transmission>
    <transmission name="trans_sero_2_j3">
        <type>transmission_interface/SimpleTransmission</type>
        <joint name="sero_2_j3">
            <hardwareInterface>hardware_interface/PositionJointInterface</hardwareInterface>
        </joint>
        <actuator name="sero_2_j3_motor">
            <hardwareInterface>hardware_interface/PositionJointInterface</hardwareInterface>
            <mechanicalReduction>1</mechanicalReduction>
        </actuator>
    </transmission>
    <transmission name="trans_sero_2_j2">
        <type>transmission_interface/SimpleTransmission</type>
        <joint name="sero_2_j2">
            <hardwareInterface>hardware_interface/PositionJointInterface</hardwareInterface>
        </joint>
        <actuator name="sero_2_j2_motor">
            <hardwareInterface>hardware_interface/PositionJointInterface</hardwareInterface>
            <mechanicalReduction>1</mechanicalReduction>
        </actuator>
    </transmission>
    <transmission name="trans_sero_2_j1">
        <type>transmission_interface/SimpleTransmission</type>
        <joint name="sero_2_j1">
            <hardwareInterface>hardware_interface/PositionJointInterface</hardwareInterface>
        </joint>
        <actuator name="sero_2_j1_motor">
            <hardwareInterface>hardware_interface/PositionJointInterface</hardwareInterface>
            <mechanicalReduction>1</mechanicalReduction>
        </actuator>
    </transmission>
    <transmission name="trans_sero_3_j5">
        <type>transmission_interface/SimpleTransmission</type>
        <joint name="sero_3_j5">
            <hardwareInterface>hardware_interface/PositionJointInterface</hardwareInterface>
        </joint>
        <actuator name="sero_3_j5_motor">
            <hardwareInterface>hardware_interface/PositionJointInterface</hardwareInterface>
            <mechanicalReduction>1</mechanicalReduction>
        </actuator>
    </transmission>
    <transmission name="trans_sero_3_j4">
        <type>transmission_interface/SimpleTransmission</type>
        <joint name="sero_3_j4">
            <hardwareInterface>hardware_interface/PositionJointInterface</hardwareInterface>
        </joint>
        <actuator name="sero_3_j4_motor">
            <hardwareInterface>hardware_interface/PositionJointInterface</hardwareInterface>
            <mechanicalReduction>1</mechanicalReduction>
        </actuator>
    </transmission>
    <transmission name="trans_sero_3_j3">
        <type>transmission_interface/SimpleTransmission</type>
        <joint name="sero_3_j3">
            <hardwareInterface>hardware_interface/PositionJointInterface</hardwareInterface>
        </joint>
        <actuator name="sero_3_j3_motor">
            <hardwareInterface>hardware_interface/PositionJointInterface</hardwareInterface>
            <mechanicalReduction>1</mechanicalReduction>
        </actuator>
    </transmission>
    <transmission name="trans_sero_3_j2">
        <type>transmission_interface/SimpleTransmission</type>
        <joint name="sero_3_j2">
            <hardwareInterface>hardware_interface/PositionJointInterface</hardwareInterface>
        </joint>
        <actuator name="sero_3_j2_motor">
            <hardwareInterface>hardware_interface/PositionJointInterface</hardwareInterface>
            <mechanicalReduction>1</mechanicalReduction>
        </actuator>
    </transmission>
    <transmission name="trans_sero_3_j1">
        <type>transmission_interface/SimpleTransmission</type>
        <joint name="sero_3_j1">
            <hardwareInterface>hardware_interface/PositionJointInterface</hardwareInterface>
        </joint>
        <actuator name="sero_3_j1_motor">
            <hardwareInterface>hardware_interface/PositionJointInterface</hardwareInterface>
            <mechanicalReduction>1</mechanicalReduction>
        </actuator>
    </transmission>
    <gazebo>
    <plugin name="control" filename="libgazebo_ros_control.so">
        <robotNamespace>/</robotNamespace>
    </plugin>
</gazebo>
<gazebo>
    <plugin name = "joint_state_publisher" filename = "libgazebo_ros_joint_state_publisher.so" >
    <jointName>sero_1_j1, sero_1_j2, sero_1_j3, sero_1_j4, sero_1_j5, sero_1_j6, sero_2_j1, sero_2_j2, sero_2_j3, sero_2_j4, sero_2_j5, sero_3_j1, sero_3_j2, sero_3_j3, sero_3_j4, sero_3_j5</jointName>
    </plugin>
</gazebo>
</robot>
